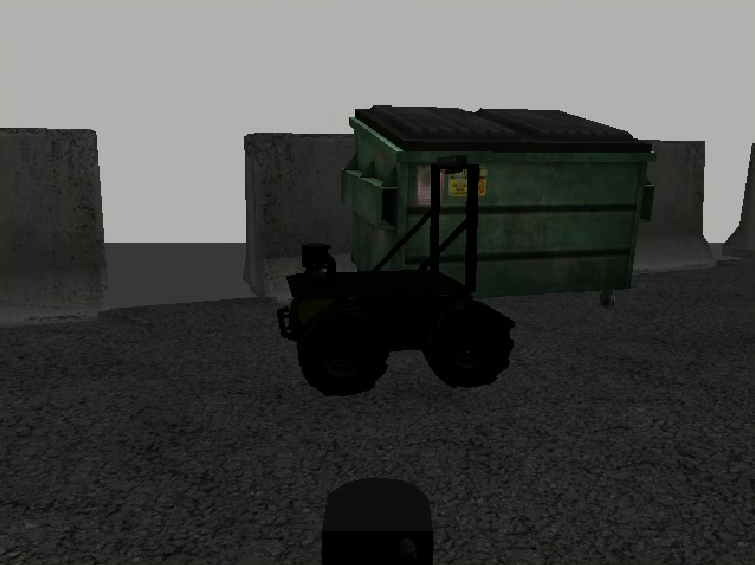husky: (278, 270, 517, 396)
